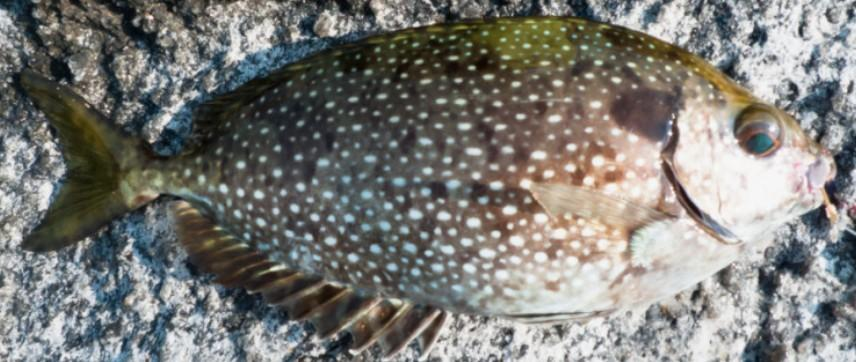fish: (20, 17, 832, 355)
